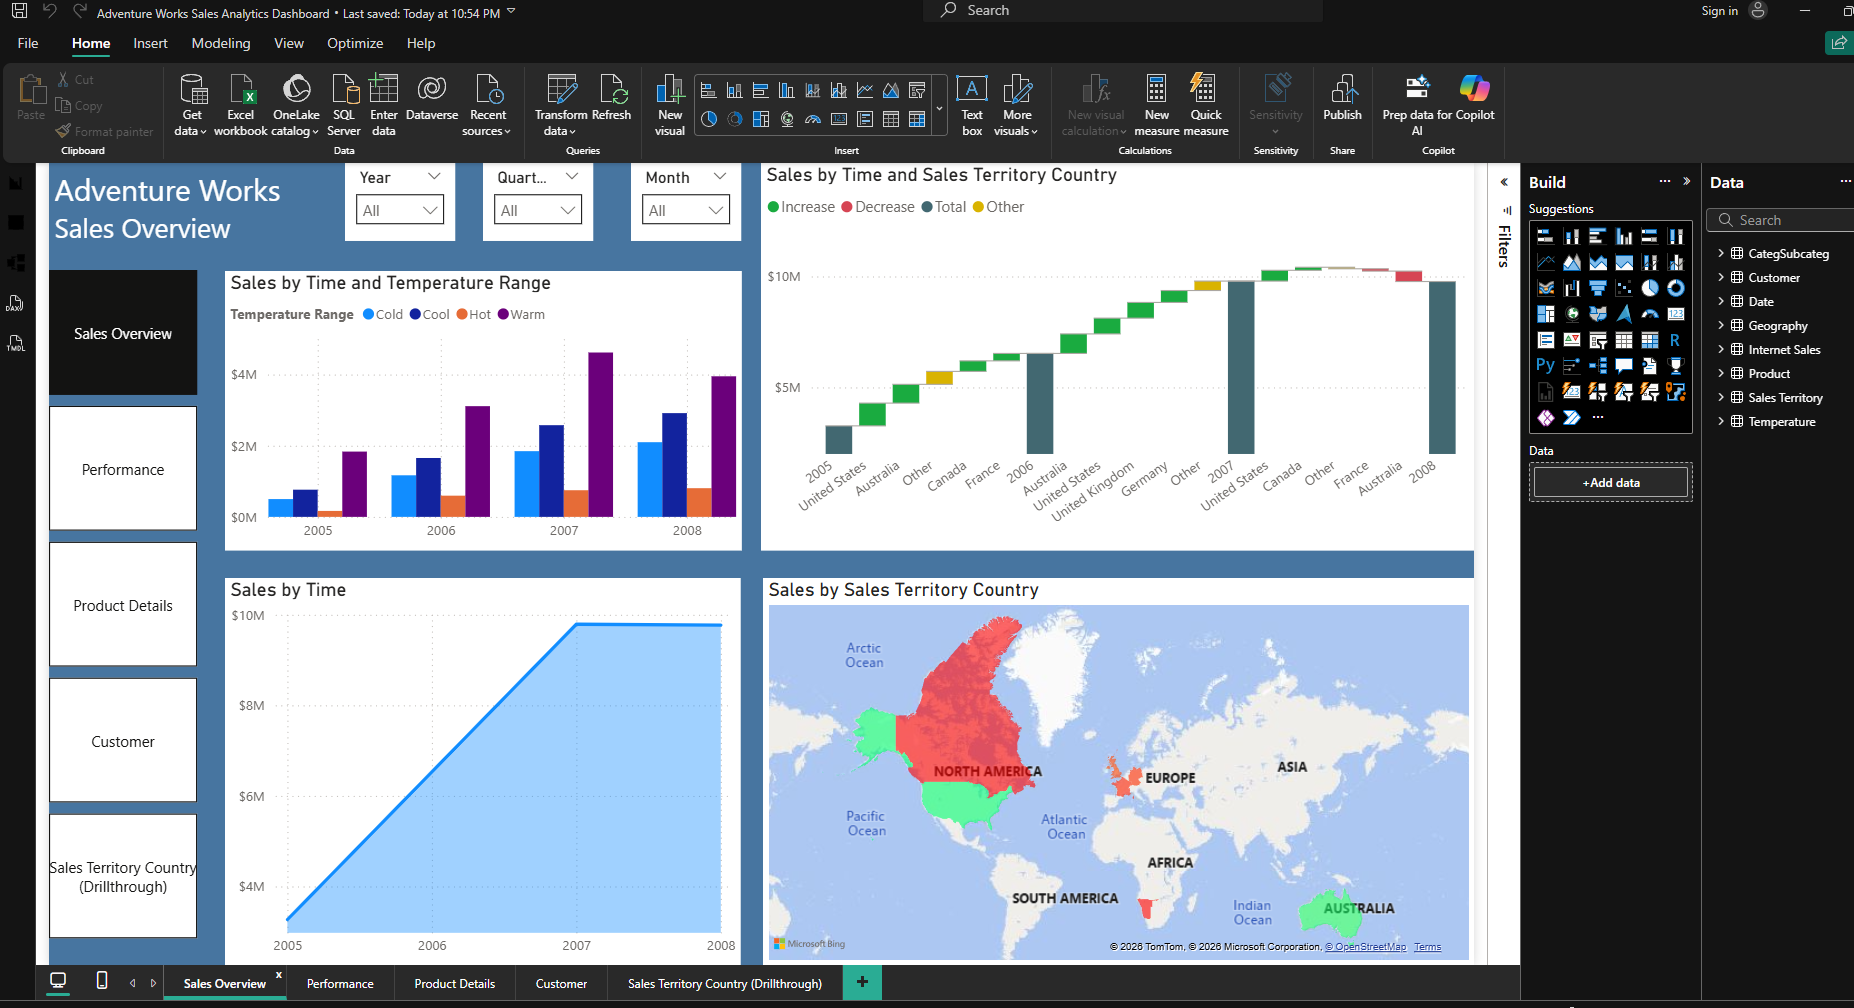

The page's visual inventory and layout, read from the dashboard file:
{"tool":"powerbi","page":{"name":"Sales Overview","canvas":[1280,720],"ordinal":0},"visuals":[{"type":"areaChart","title":"Sales by Time","fields":{"Y":["Internet Sales.Total Sales"],"Category":["Date.Calendar Hierarchy.Calendar Year","Date.Calendar Hierarchy.Calendar Quarter","Date.Calendar Hierarchy.Month Name"]},"box":[158.2,372.4,463.1,347.6],"z":0},{"type":"slicer","fields":{"Values":["Date.Calendar Quarter"]},"box":[389.9,0,99,70.2],"z":1000},{"type":"pageNavigator","box":[0,96,133.3,601.3],"z":2000},{"type":"textbox","box":[0,0,234.9,81.7],"z":3000},{"type":"clusteredColumnChart","title":"Sales by Time and Temperature Range","fields":{"Category":["Date.Calendar Hierarchy.Calendar Year","Date.Calendar Hierarchy.Calendar Quarter","Date.Calendar Hierarchy.Month Name"],"Y":["Internet Sales.Total Sales"],"Series":["Temperature.Temperature Range"]},"box":[158,96.5,463.9,250.7],"z":4000},{"type":"filledMap","title":"Sales by Sales Territory Country","fields":{"Category":["Sales Territory.Sales Territory Country"]},"box":[640.9,372.4,639.1,347.6],"z":5000},{"type":"slicer","fields":{"Values":["Date.Month Name"]},"box":[522.8,0,99,70.2],"z":6000},{"type":"waterfallChart","title":"Sales by Time and Sales Territory Country","fields":{"Category":["Date.Calendar Hierarchy.Calendar Year","Date.Calendar Hierarchy.Calendar Quarter","Date.Calendar Hierarchy.Month Name"],"Y":["Internet Sales.Total Sales"],"Breakdown":["Sales Territory.Sales Territory Country"]},"box":[639.1,0,640.9,347.6],"z":7000},{"type":"slicer","fields":{"Values":["Date.Calendar Year"]},"box":[265.7,0,99.3,70.3],"z":8000}]}

Visuals, with their boxes on the page's 1280x720 design canvas (x1, y1, x2, y2). These are canvas units, not pixel positions in the 1854x1008 screenshot, which may show the page scaled, cropped or inside an application window:
"Sales by Time" areaChart: 158,372,621,720
slicer - Date.Calendar Quarter: 390,0,489,70
pageNavigator: 0,96,133,697
textbox: 0,0,235,82
"Sales by Time and Temperature Range" clusteredColumnChart: 158,96,622,347
"Sales by Sales Territory Country" filledMap: 641,372,1280,720
slicer - Date.Month Name: 523,0,622,70
"Sales by Time and Sales Territory Country" waterfallChart: 639,0,1280,348
slicer - Date.Calendar Year: 266,0,365,70
